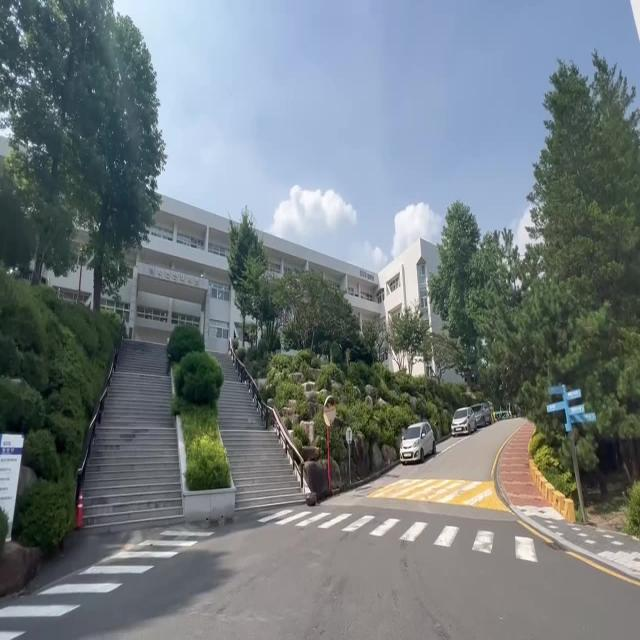building: (149, 190, 228, 338)
